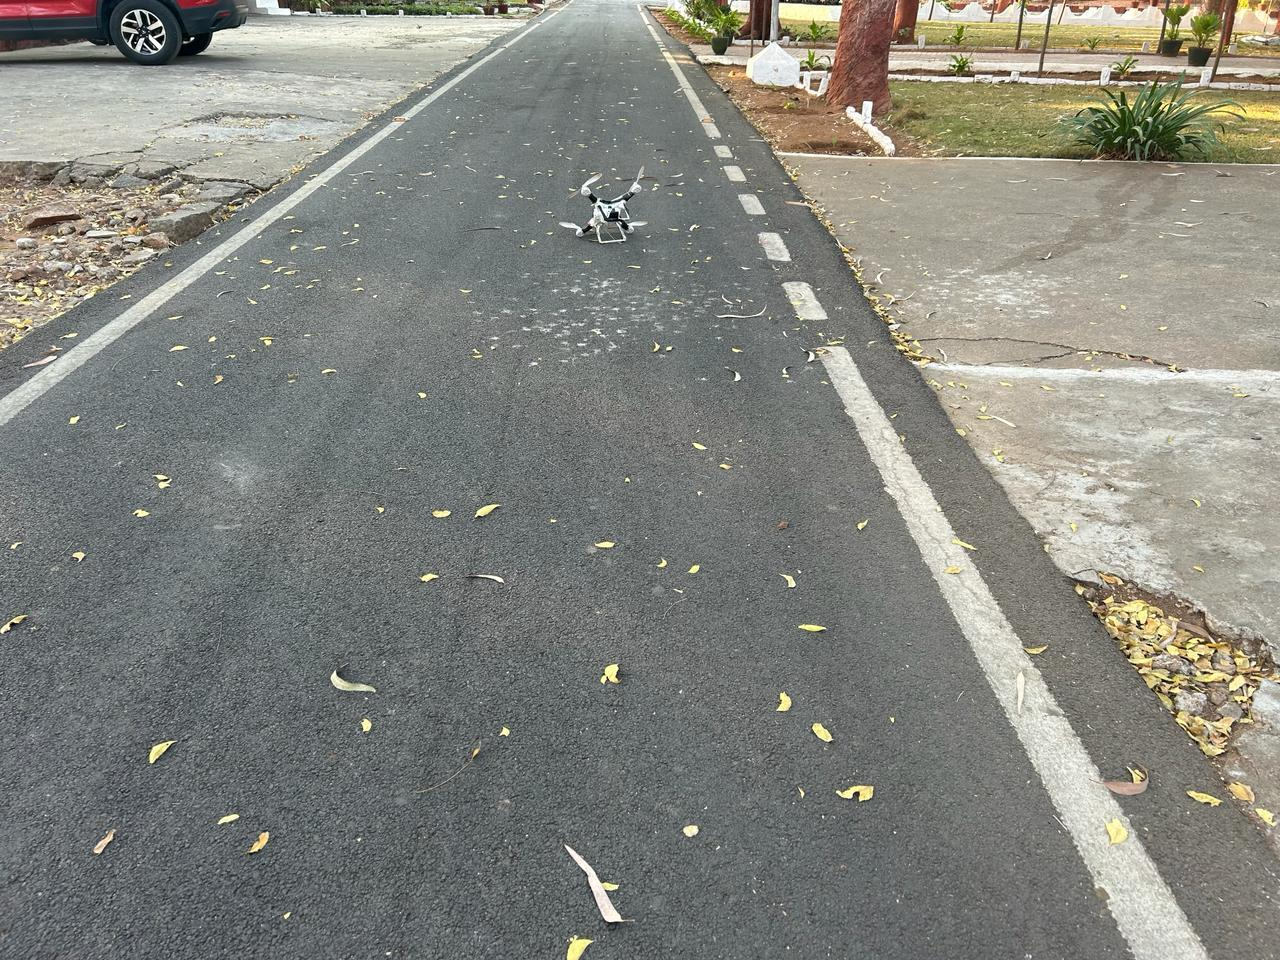drone: (528, 122, 694, 313)
